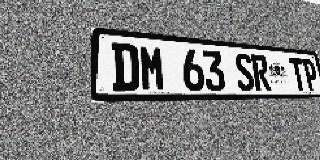3: (202, 50, 226, 91)
6: (181, 48, 206, 91)
D: (111, 42, 140, 91)
M: (139, 45, 166, 91)
P: (301, 58, 320, 91)
R: (250, 54, 272, 91)
S: (234, 53, 255, 91)
T: (288, 57, 307, 91)
